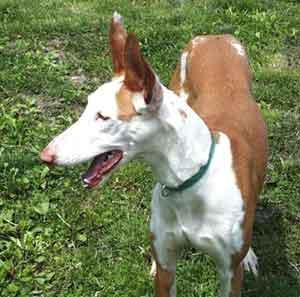Ibizan_hound: (37, 8, 270, 295)
